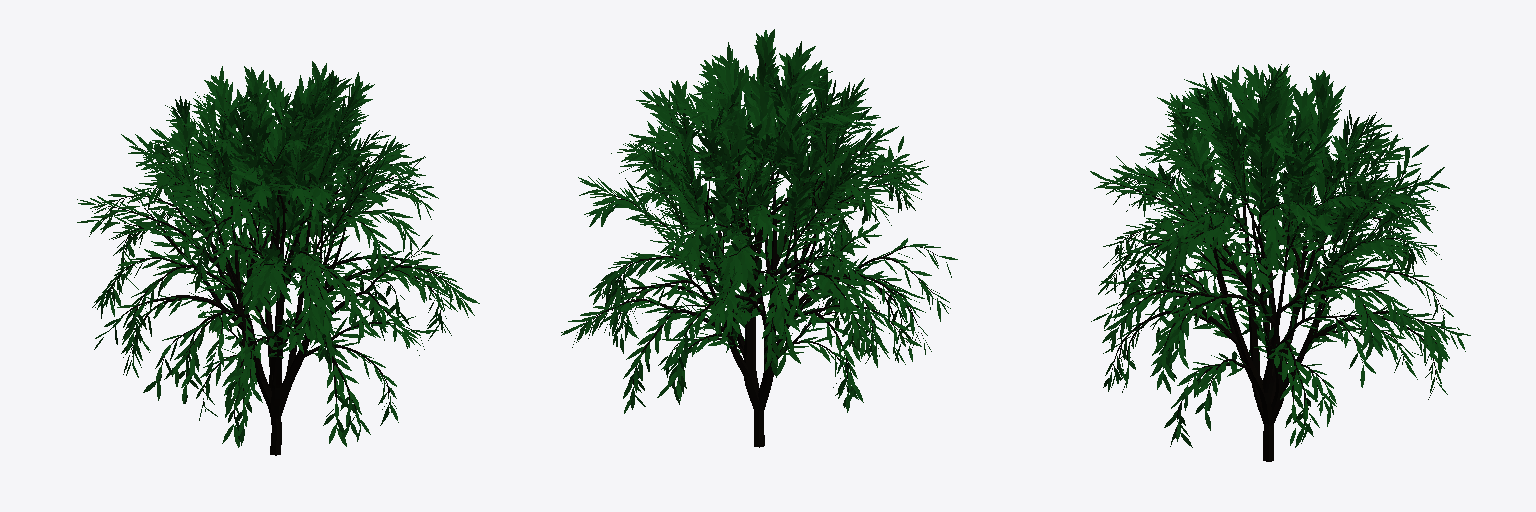
Rendered from leaf_tree.obj.
The picture shows the model from 3 angles: view 1: azimuth 30°, elevation 25°; view 2: azimuth 150°, elevation 25°; view 3: azimuth 270°, elevation 25°; orthographic projection.
Parts seen in each view (by area): view 1: leaf_tree; view 2: leaf_tree; view 3: leaf_tree.
Boxes of the visible parts, x1=… form: leaf_tree: x1=77, y1=61, x2=479, y2=455; leaf_tree: x1=561, y1=29, x2=957, y2=447; leaf_tree: x1=1090, y1=64, x2=1470, y2=461.
Bounding box in the file's own units: 5.78 × 6.82 × 6.05.